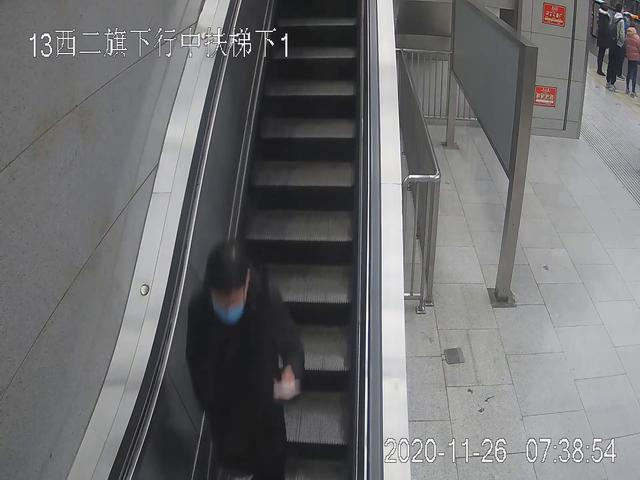person: (188, 243, 303, 480), (594, 4, 614, 74), (608, 5, 624, 91), (624, 25, 640, 95)
